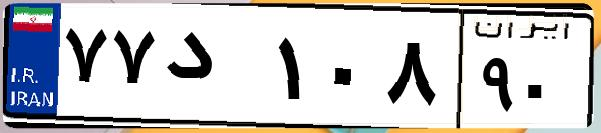0: (330, 28, 385, 110), (525, 38, 570, 115)
1: (270, 28, 330, 110)
7: (57, 26, 110, 100), (110, 28, 158, 98)
8: (385, 28, 445, 110)
9: (475, 38, 525, 113)
د: (158, 20, 270, 120)
